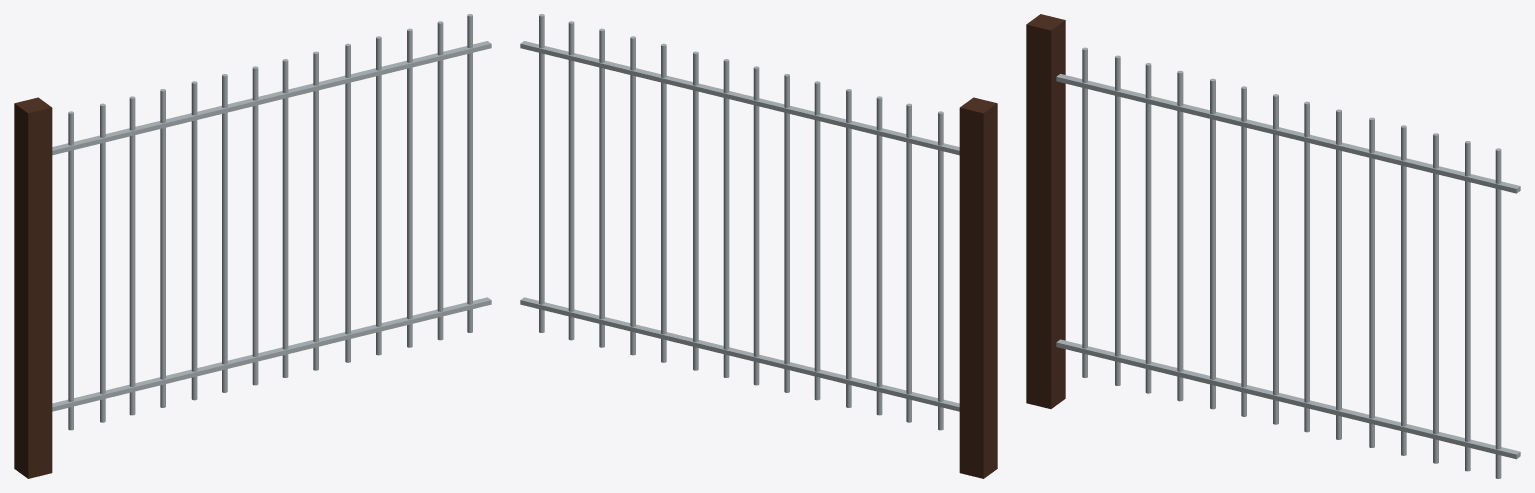
Rendered from MFenceL.fbx.
3 renders of one model, left to right at view 1: azimuth 30°, elevation 25°; view 2: azimuth 150°, elevation 25°; view 3: azimuth 330°, elevation 25°, orthographic. The views are drawn at different scales.
Parts seen in each view (by area): view 1: Cylinder.013, Cube.002, Cube.001, Cube; view 2: Cylinder.013, Cube.002, Cube.001, Cube; view 3: Cylinder.013, Cube.002, Cube, Cube.001.
Boxes of the visible parts, x1=… form: Cylinder.013: x1=68, y1=14, x2=472, y2=430; Cube.002: x1=14, y1=97, x2=52, y2=478; Cube.001: x1=52, y1=41, x2=491, y2=155; Cube: x1=52, y1=297, x2=491, y2=411; Cylinder.013: x1=539, y1=14, x2=943, y2=430; Cube.002: x1=959, y1=97, x2=997, y2=478; Cube.001: x1=520, y1=41, x2=959, y2=155; Cube: x1=520, y1=297, x2=959, y2=411; Cylinder.013: x1=1082, y1=47, x2=1501, y2=478; Cube.002: x1=1026, y1=14, x2=1065, y2=408; Cube: x1=1056, y1=339, x2=1520, y2=459; Cube.001: x1=1056, y1=74, x2=1520, y2=193.
Size of the model in its own units: 152 by 114 by 7.81.
